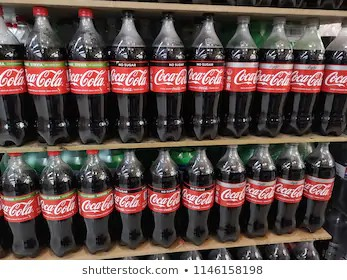coke-bottle-2l: (23, 4, 74, 144), (72, 7, 115, 140), (251, 14, 296, 141), (186, 11, 226, 139), (152, 13, 189, 144), (224, 10, 260, 137), (113, 13, 149, 139), (39, 149, 77, 258), (289, 18, 325, 133), (298, 143, 341, 235), (77, 149, 114, 255), (180, 145, 214, 247), (1, 151, 33, 258), (146, 150, 180, 247), (115, 150, 146, 255), (244, 142, 275, 241), (214, 145, 244, 241), (275, 142, 304, 241)
